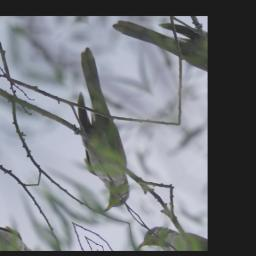Cuckoo: (12, 41, 188, 217)
